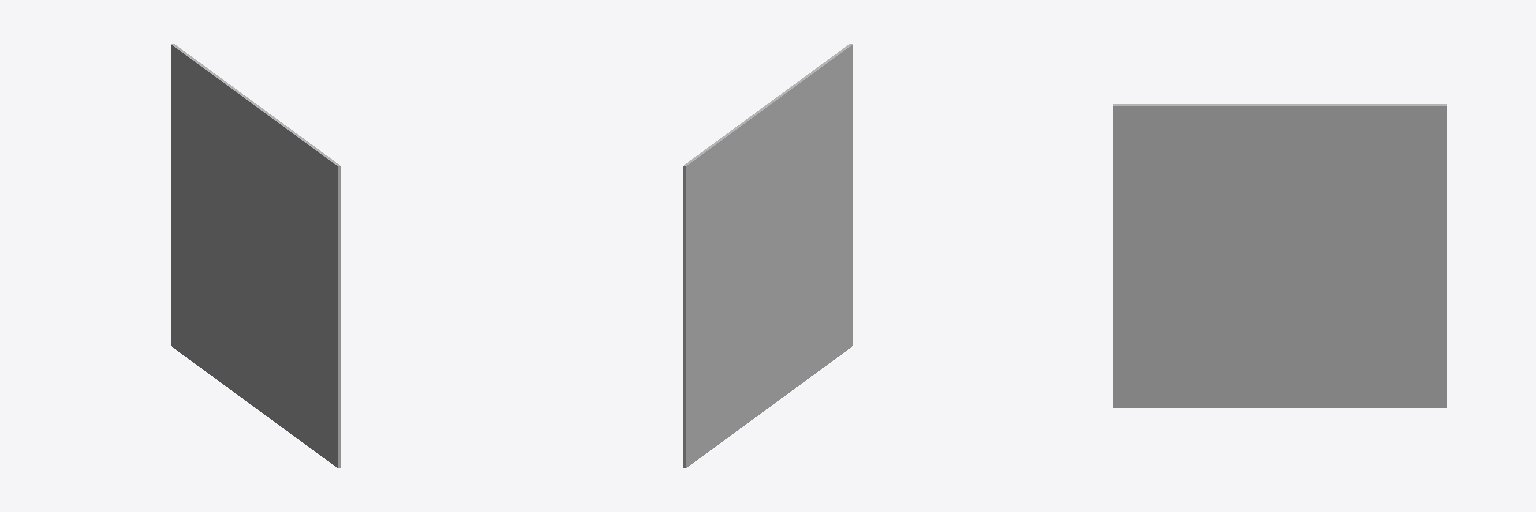
The model's file is wall.obj.
The picture shows the model from 3 angles: view 1: azimuth 30°, elevation 25°; view 2: azimuth 150°, elevation 25°; view 3: azimuth 270°, elevation 25°; orthographic projection.
Visible parts, largest first — view 1: Grid; view 2: Grid; view 3: Grid.
Boxes of the visible parts, x1,y1,x2,y2 form: Grid: [171, 44, 340, 467]; Grid: [683, 44, 852, 467]; Grid: [1113, 104, 1446, 407].
Bounding box in the file's own units: 0.1 × 10 × 10.